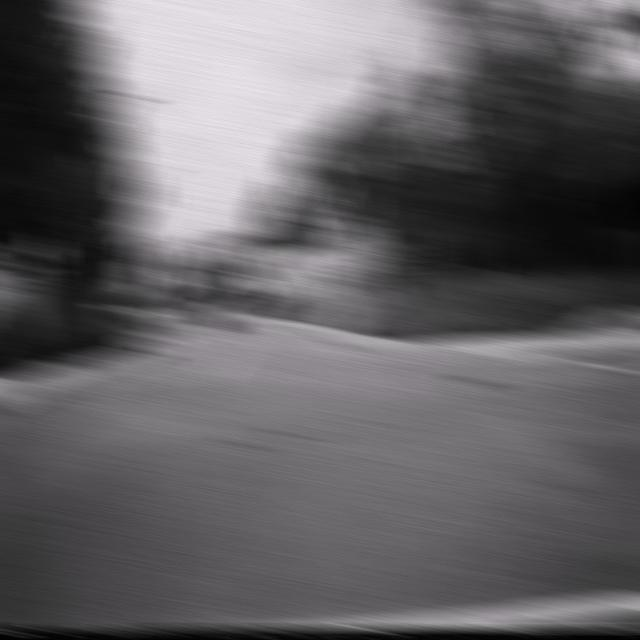speedLimit25: (350, 220, 379, 253)
